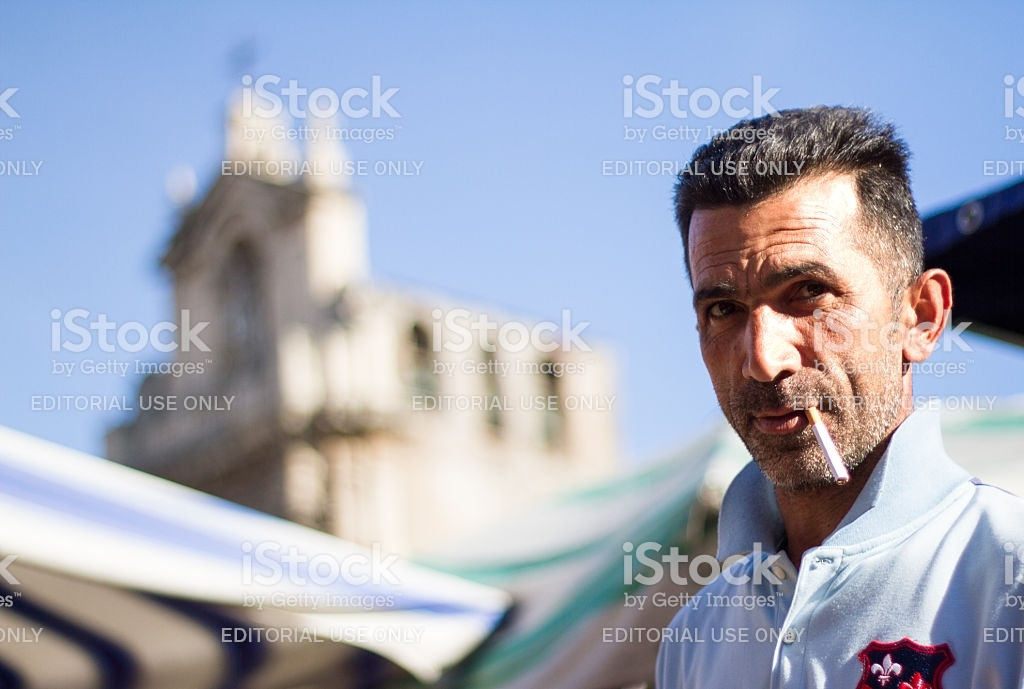sigaretta: (800, 404, 854, 487)
